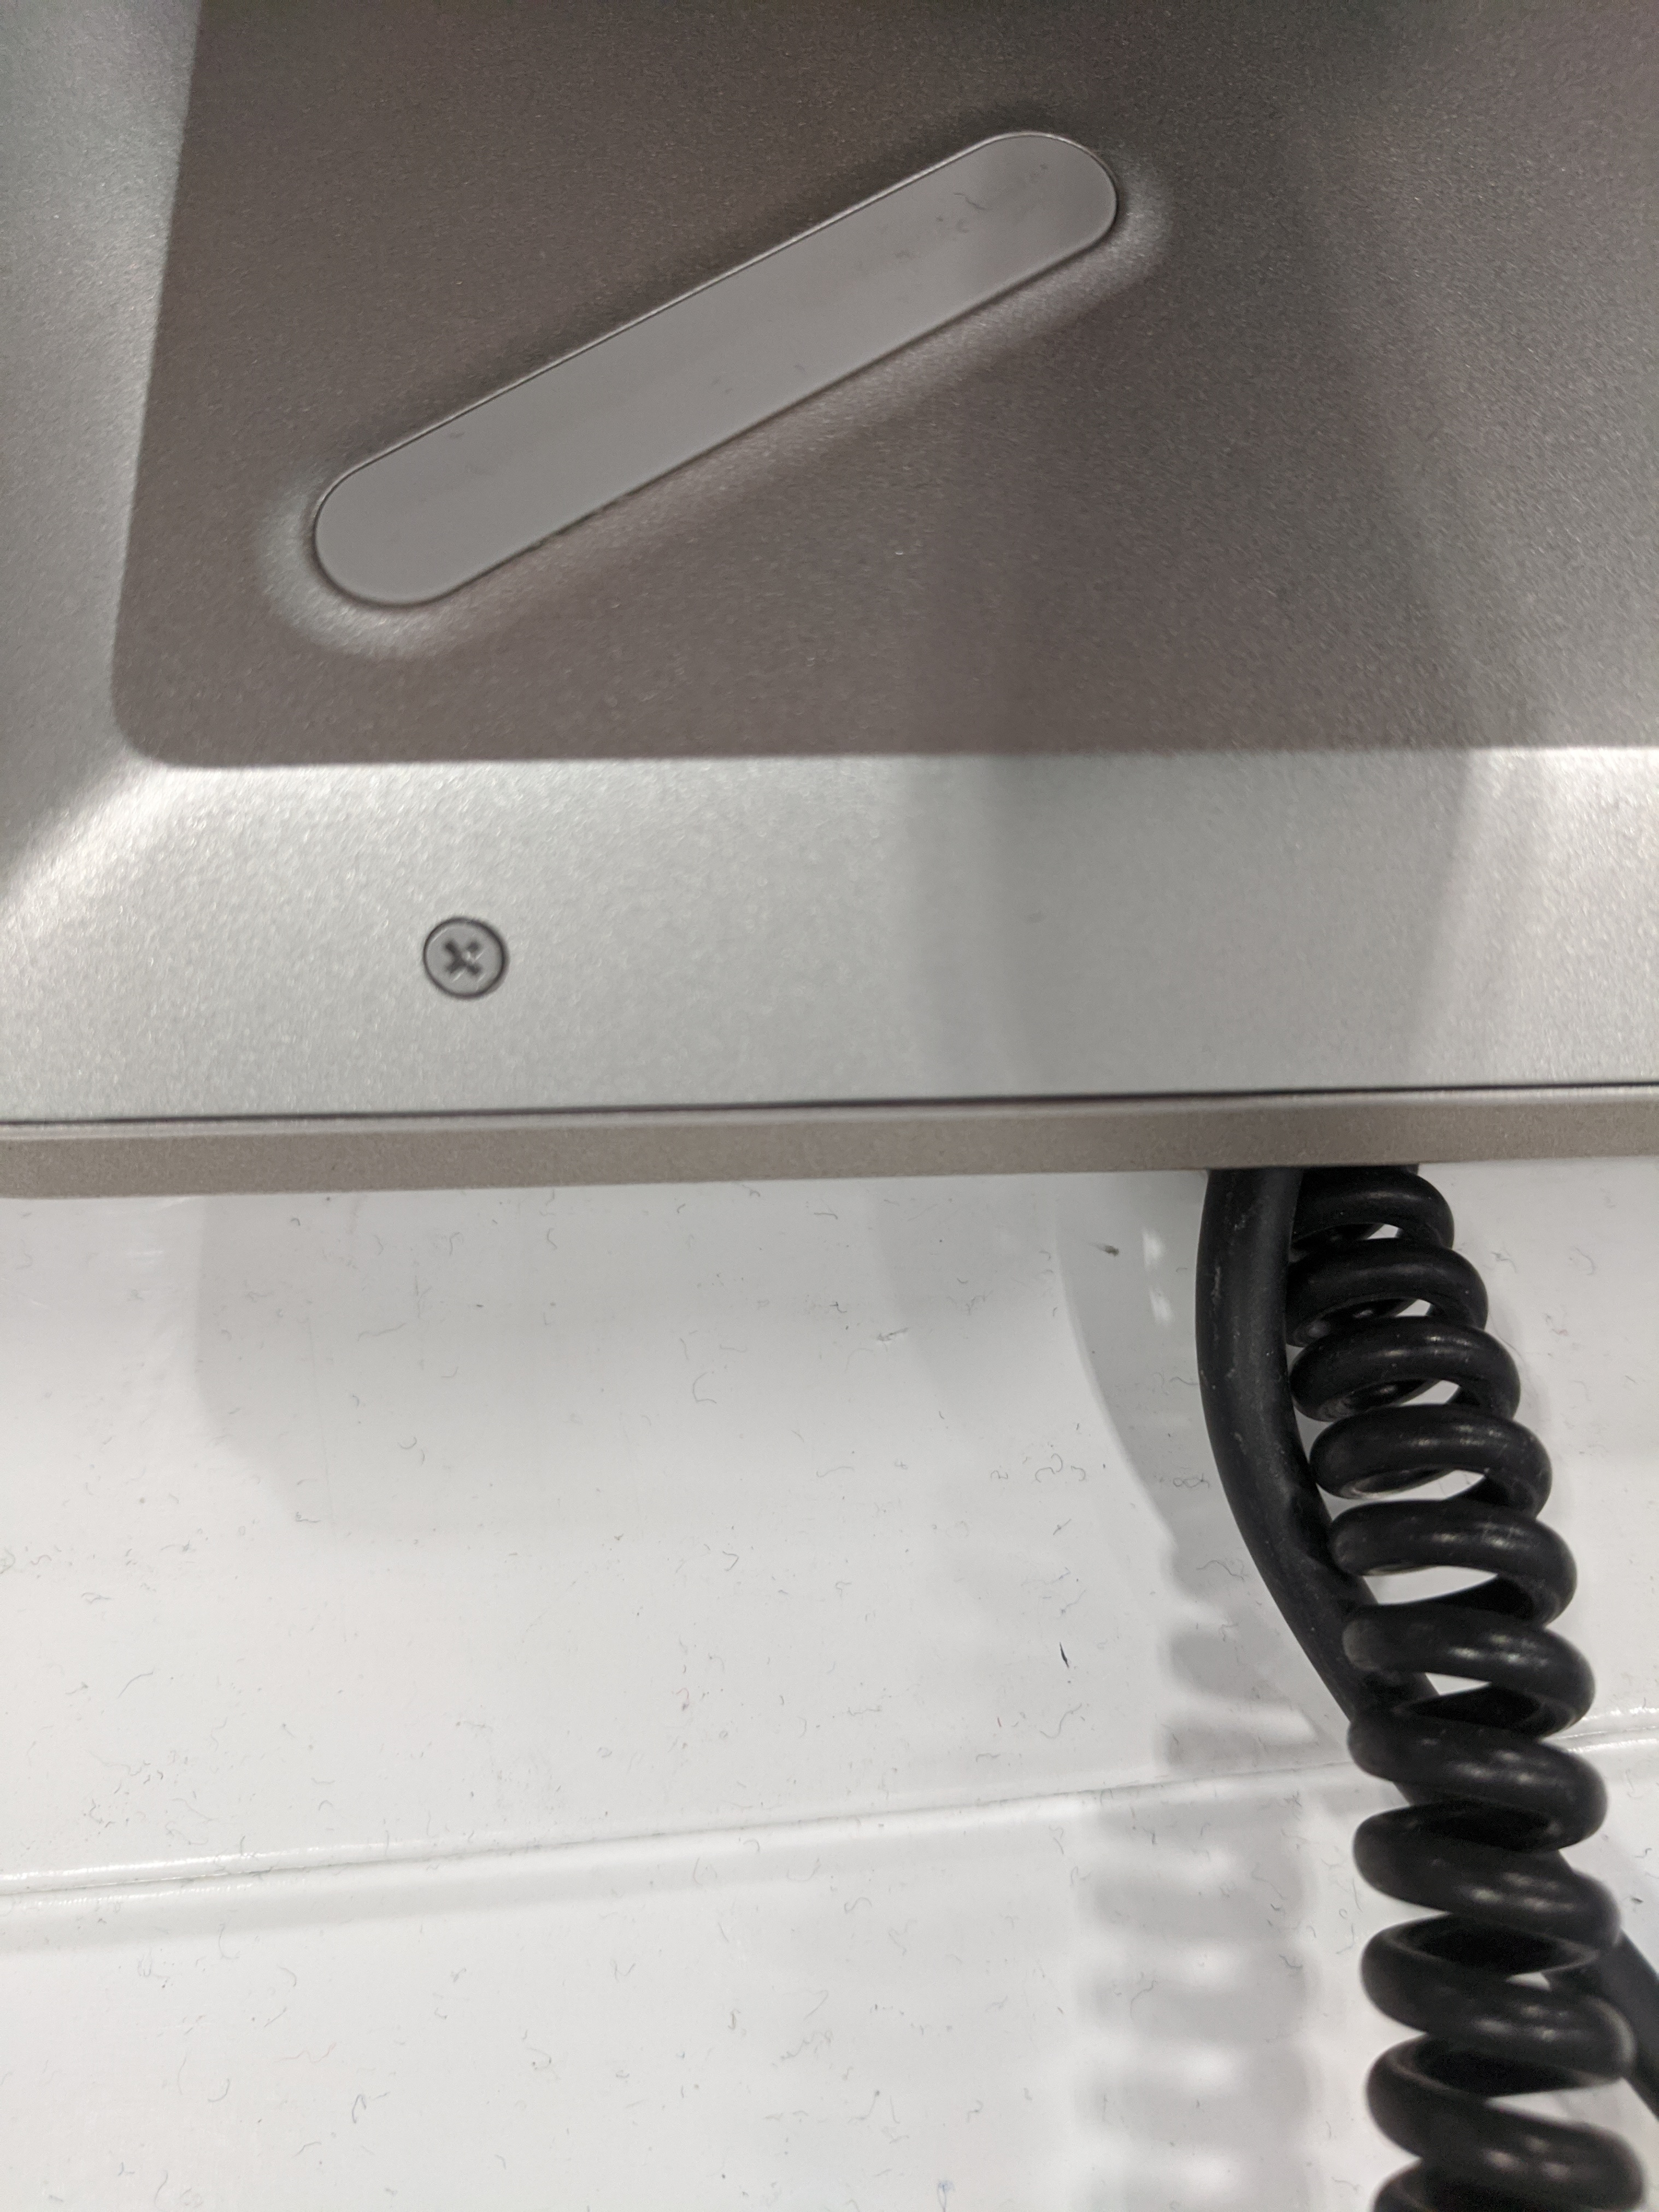cross_recessed_screw: (410, 902, 526, 1010)
